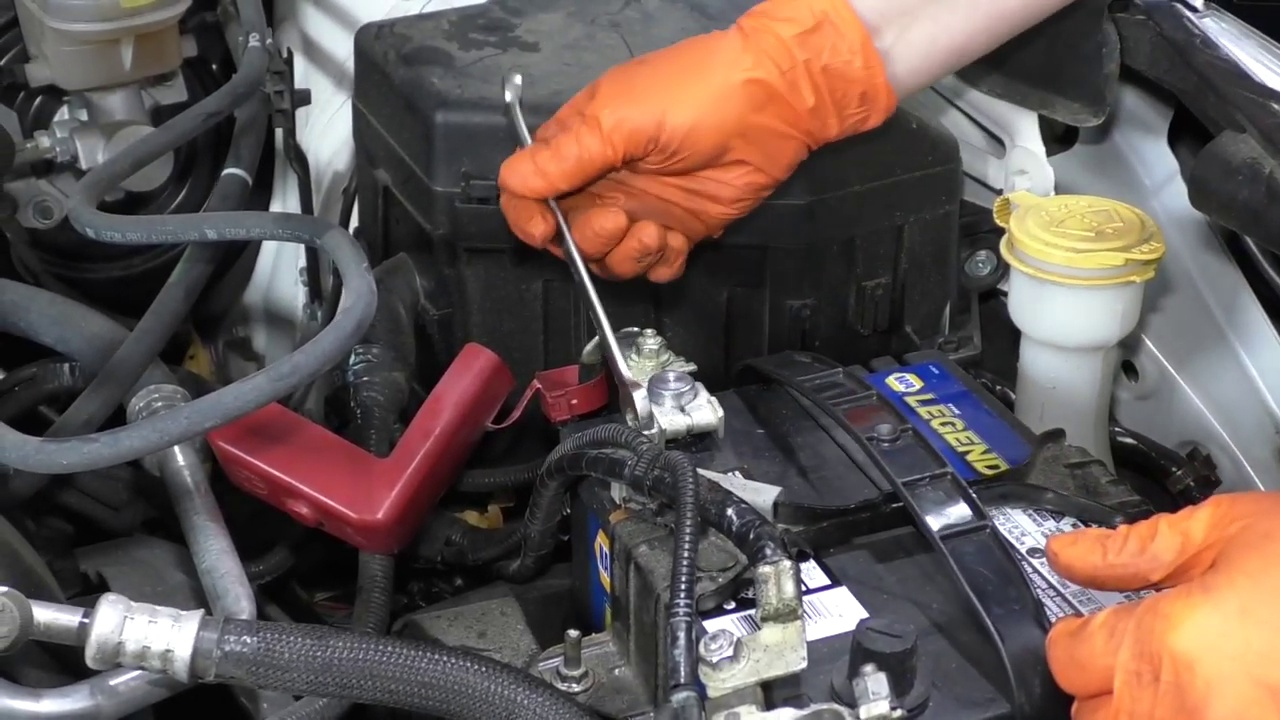battery: (557, 331, 1173, 720)
pos_connected: (427, 302, 733, 453)
